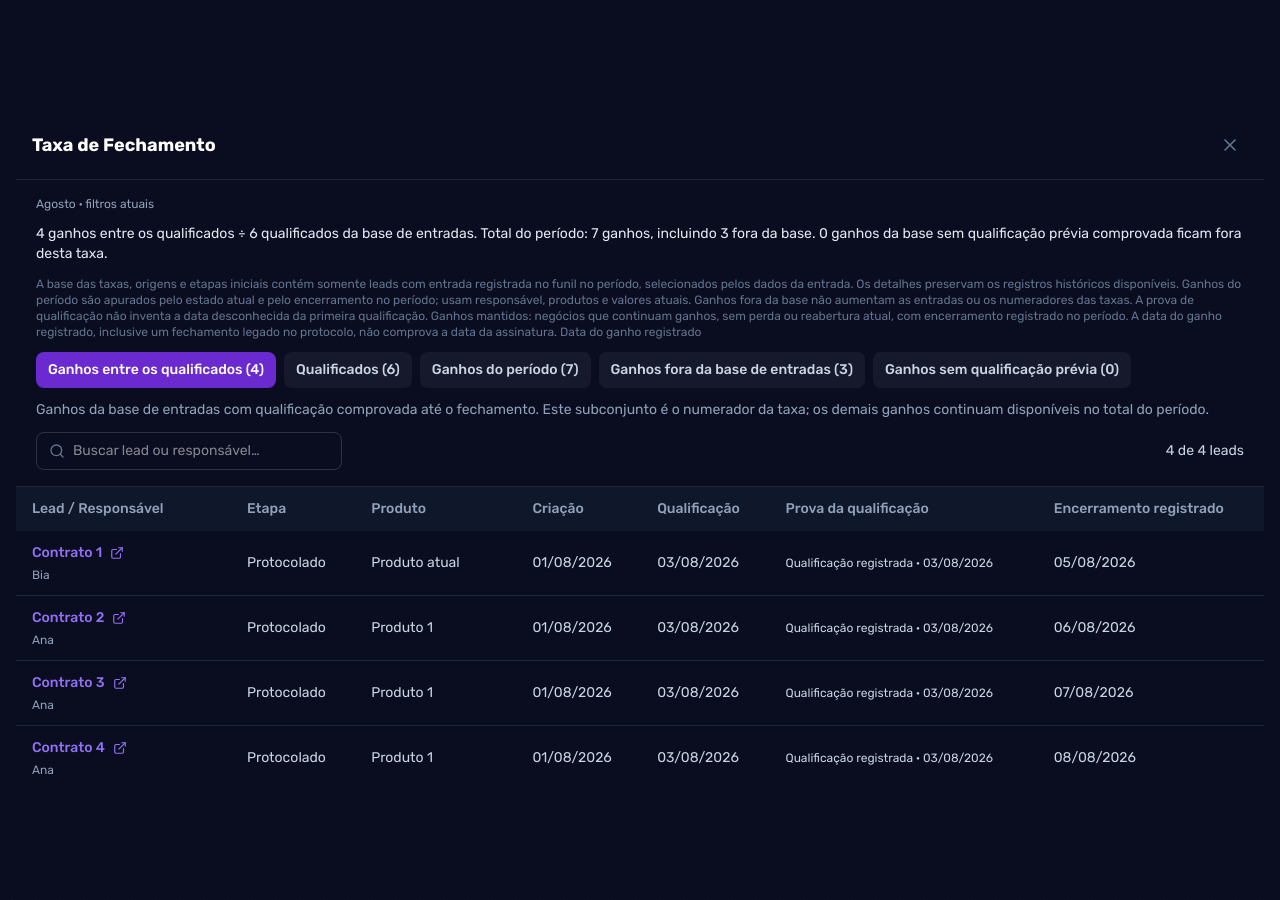
Test case: reconcilia a taxa com todos os contratos e conserva fechamento conhecido sem data MQL
expect the number of links is 4: met, box [32,542,124,562]; [32,608,126,628]; [32,672,126,692]; [32,738,127,758]
expect the text "Total do período: 7 ganhos, incluindo 3 fora da base" is shown: met, box [36,224,1241,262]
Click the button "Ganhos do período (7)". click: (505, 370)
box: [420,352,590,388]
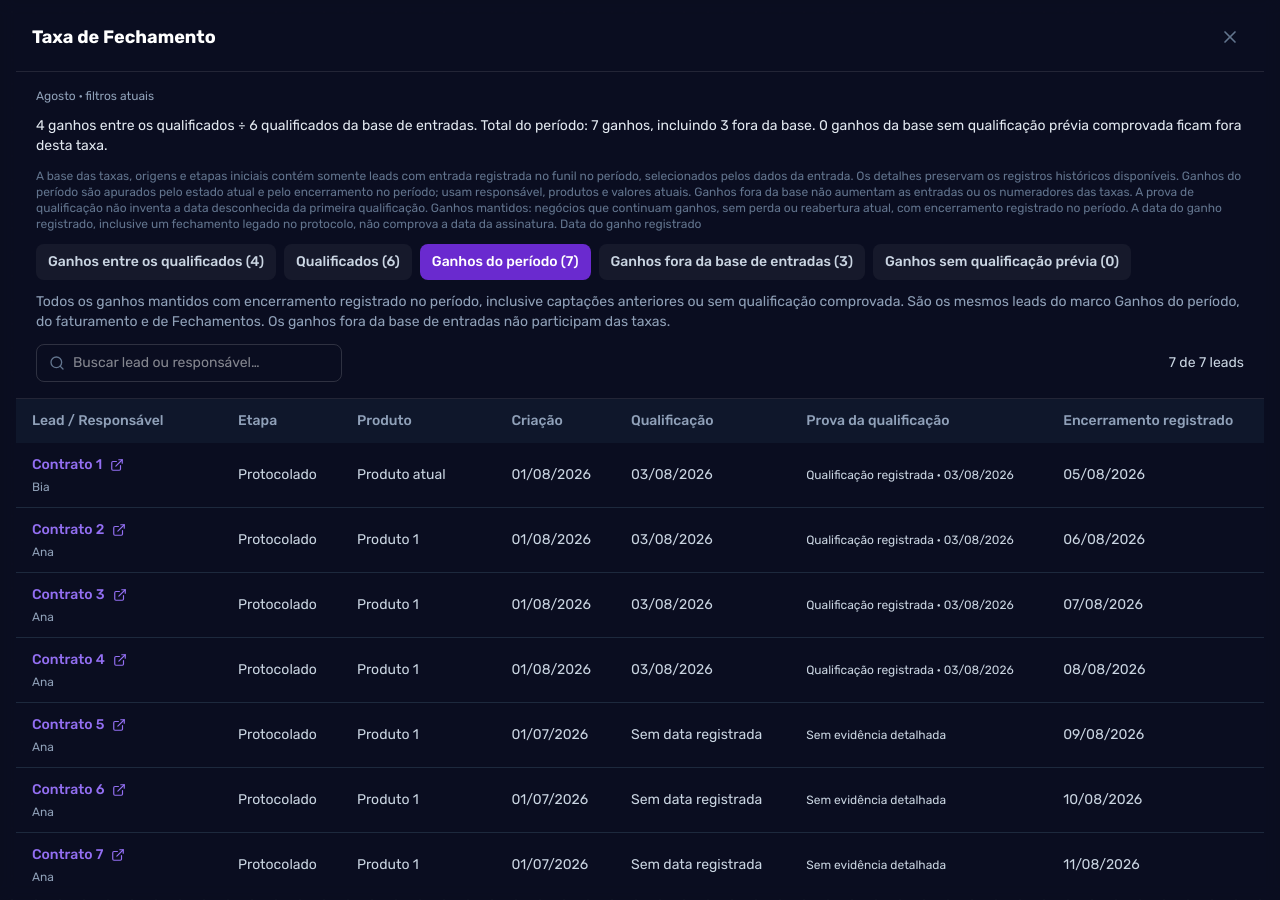
expect the number of links is 7: met
Click the button "Ganhos fora da base de entradas (3)". click: (732, 262)
box: [598,244,865,280]
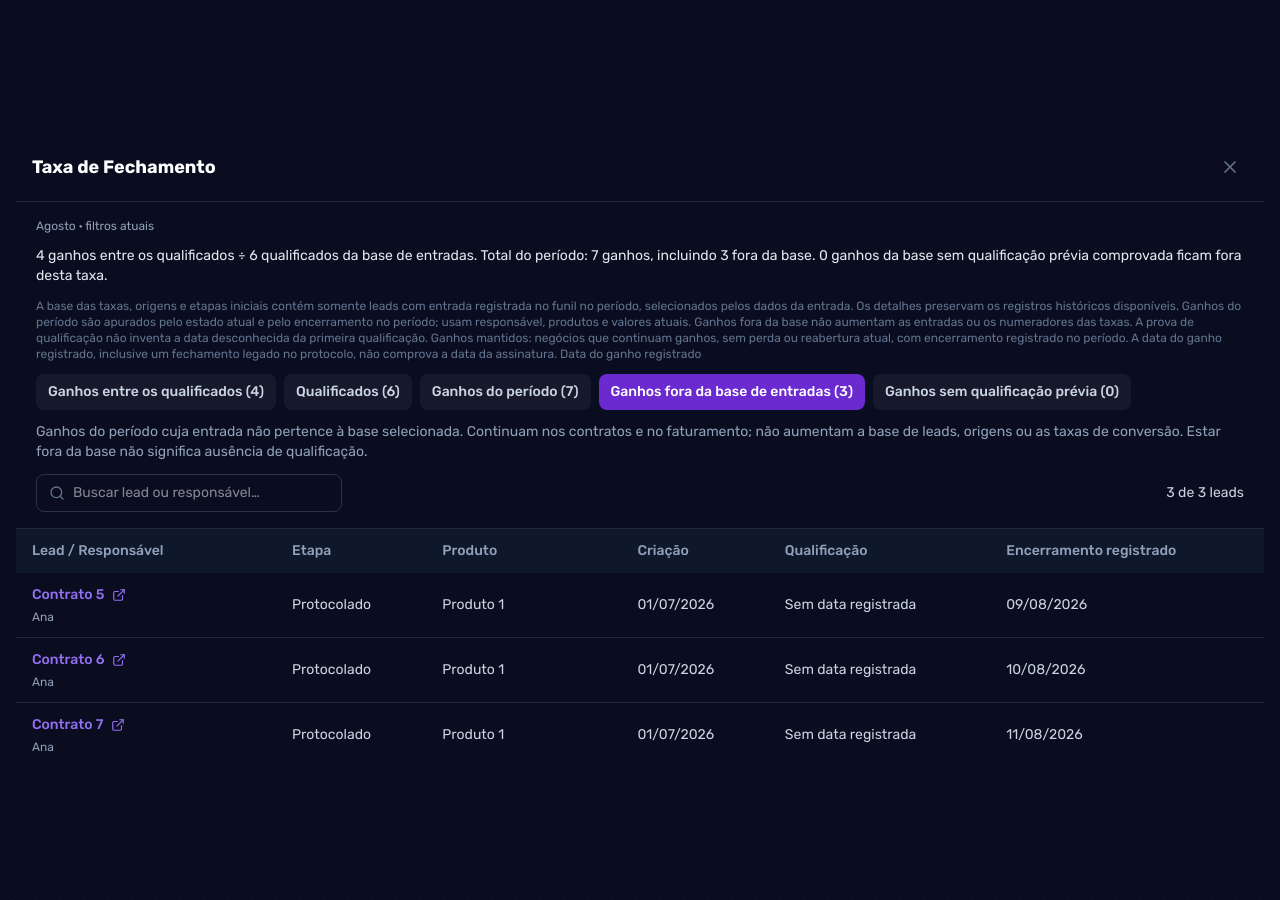
expect the cell "Sem data registrada" in the row of "Contrato 5" is shown: met, box [769,573,990,638]
expect the number of links is 3: met, box [32,585,126,605]; [32,650,126,670]; [32,715,125,735]
expect the text "Estar fora da base não significa ausência de qualificação" is shown: met, box [36,423,1220,460]
